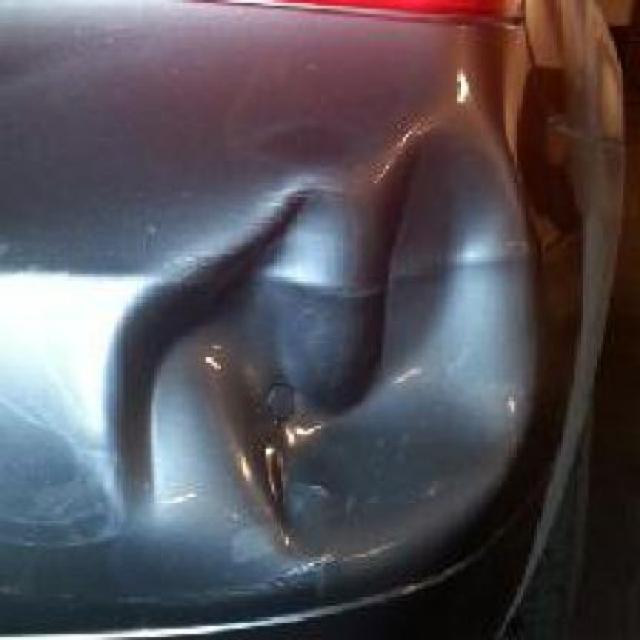dent-or-scratch: (86, 109, 562, 582)
